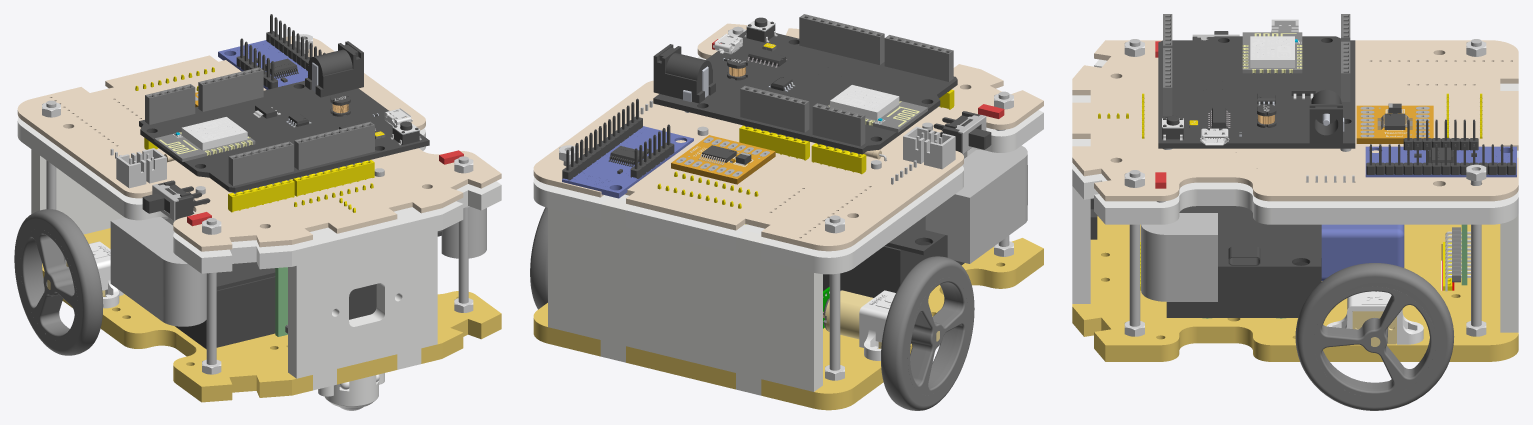
The model's file is modelo_rupu.glb.
3 views of the same model, side by side, from view 1: azimuth 30°, elevation 25°; view 2: azimuth 150°, elevation 25°; view 3: azimuth 270°, elevation 25° (orthographic). The views are drawn at different scales.
Parts seen in each view (by area): view 1: Board, Body1.071, Body1.069, Body1.028, Body1.070, Body1.033, Body1.107, Body1.037, Body1.072, Body1.014, Body1.017, Body1.021 (+23 smaller); view 2: Body1.072, Board, Body1.028, Body1.033, Body1.070, Body1.069, Body1.107, Body2.009, Body1.037, Body1.050, Body1.017, Body1.068 (+17 smaller); view 3: Board, Body1.069, Body1.028, Body1.034, Body1.070, Body1.106, Body1.037, Body2.003, Body1.009, Body2.009, Body1.055, Body1.014 (+15 smaller).
Part boxes in pixels (left/top/right/bottom): Board: left=17, top=36, right=501, bottom=251; Body1.071: left=288, top=213, right=437, bottom=390; Body1.069: left=42, top=228, right=501, bottom=402; Body1.028: left=139, top=80, right=429, bottom=192; Body1.070: left=17, top=117, right=501, bottom=273; Body1.033: left=14, top=209, right=103, bottom=355; Body1.107: left=110, top=217, right=206, bottom=326; Body1.037: left=175, top=276, right=275, bottom=349; Body1.072: left=31, top=149, right=124, bottom=234; Body1.014: left=154, top=117, right=255, bottom=161; Body1.017: left=294, top=121, right=374, bottom=177; Body1.021: left=305, top=41, right=363, bottom=97; Body1.072: left=548, top=197, right=822, bottom=395; Board: left=533, top=23, right=1043, bottom=251; Body1.028: left=653, top=30, right=957, bottom=154; Body1.033: left=881, top=256, right=974, bottom=410; Body1.070: left=533, top=56, right=1043, bottom=274; Body1.069: left=533, top=238, right=1043, bottom=410; Body1.107: left=925, top=145, right=1027, bottom=263; Body2.009: left=671, top=135, right=775, bottom=184; Body1.037: left=823, top=238, right=964, bottom=297; Body1.050: left=562, top=126, right=693, bottom=198; Body1.017: left=799, top=14, right=884, bottom=64; Body1.068: left=823, top=290, right=939, bottom=360; Board: left=1072, top=40, right=1518, bottom=201; Body1.069: left=1072, top=215, right=1518, bottom=361; Body1.028: left=1158, top=36, right=1355, bottom=148; Body1.034: left=1295, top=263, right=1454, bottom=410; Body1.070: left=1072, top=59, right=1518, bottom=224; Body1.106: left=1141, top=213, right=1217, bottom=301; Body1.037: left=1166, top=225, right=1321, bottom=317; Body2.003: left=1179, top=206, right=1321, bottom=270; Body1.009: left=1321, top=224, right=1404, bottom=281; Body2.009: left=1356, top=103, right=1433, bottom=143; Body1.055: left=1366, top=144, right=1516, bottom=174; Body1.014: left=1242, top=32, right=1302, bottom=73.
Bounding box in the file's own units: 0.1174 × 0.0827 × 0.121.
